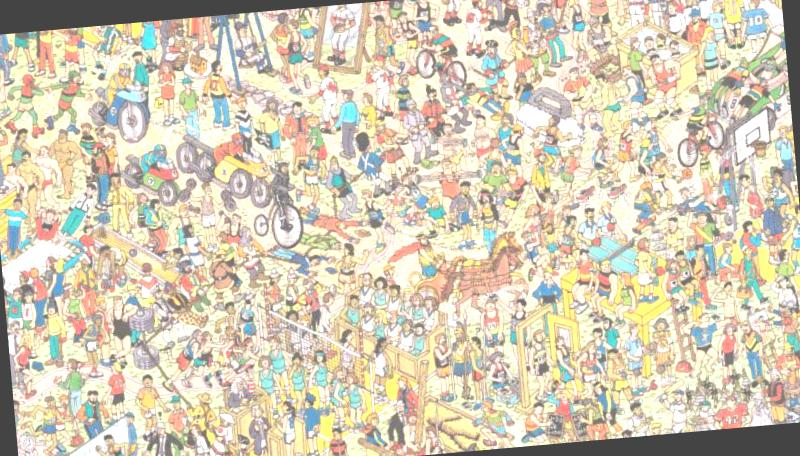waldo: (242, 362, 255, 380)
